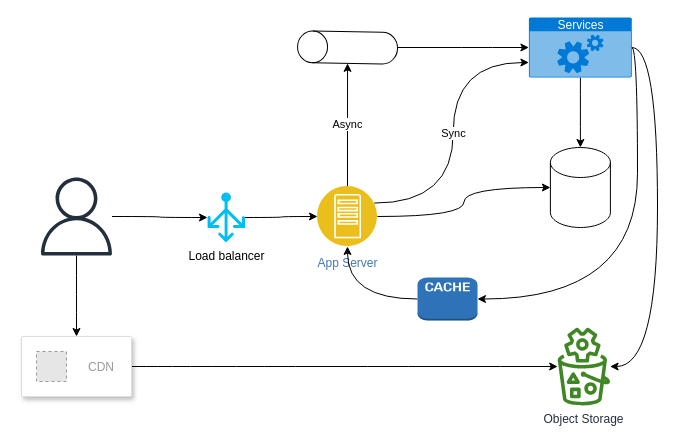
This 675x443 diagram has some shape labels left out. Grey dashed boxes stand in for pictures. Each missing label, with the centre of its shape:
"DB" belongs at point 579,187.
"Pub / Sub" belongs at point 347,47.
